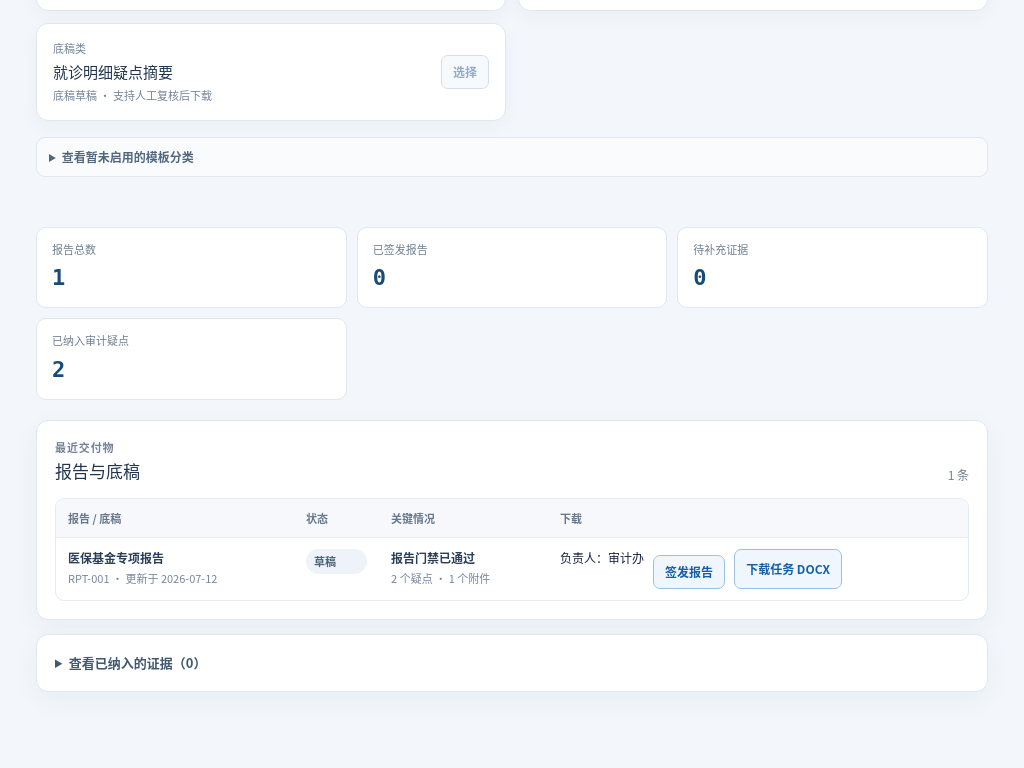
Test: ReplicaReportWorkbench › submits signoff only when all server gates allow it
(page scrolled)
Click the button "签发报告".
click(689, 572)  # box [653, 555, 725, 589]
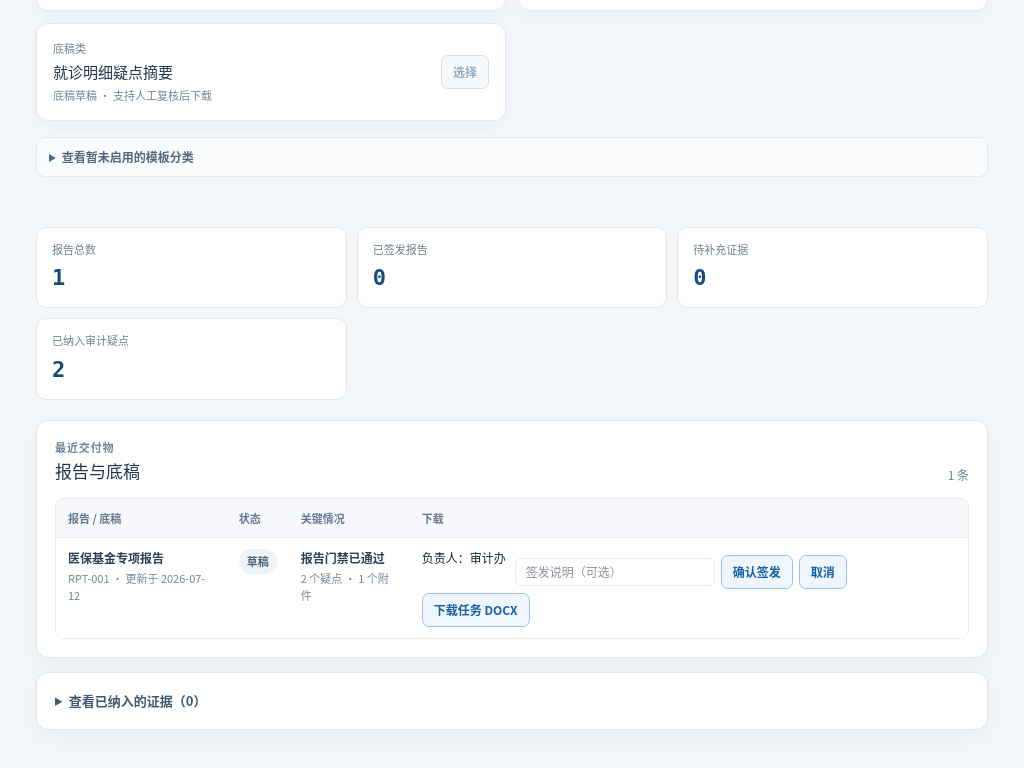
Type "证据与负责人确认已复核" into the field with placeholder "签发说明（可选）".
click(615, 572); type("证据与负责人确认已复核")  # box [515, 558, 715, 586]
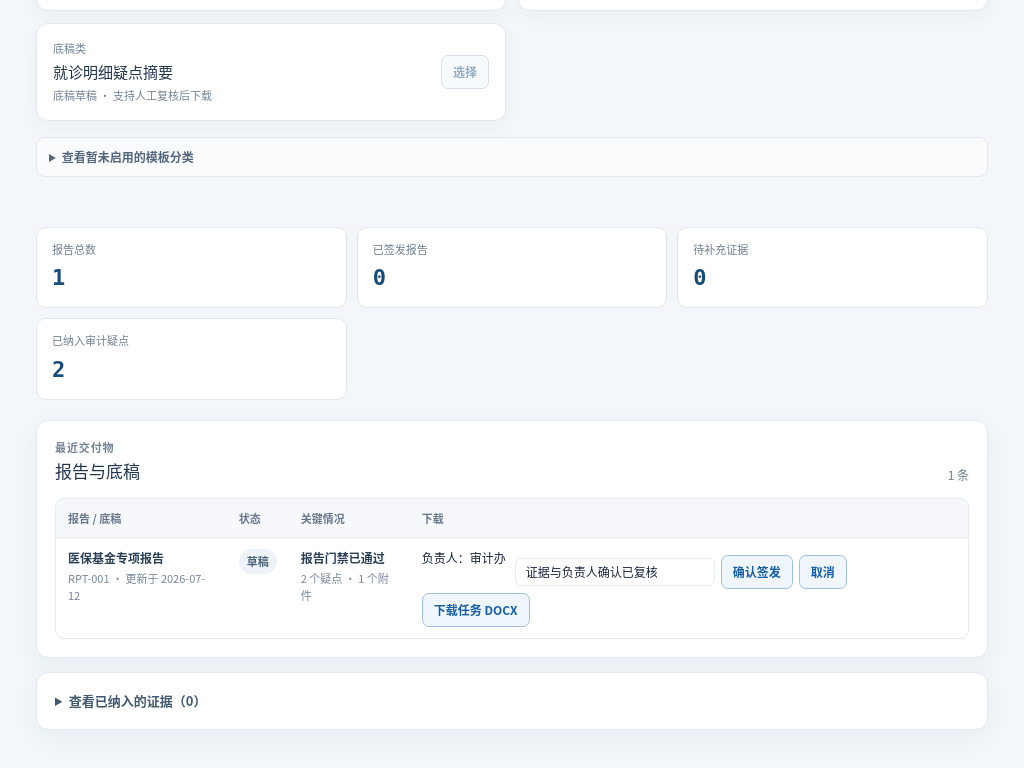
Click the button "确认签发".
click(757, 572)  # box [721, 555, 793, 589]
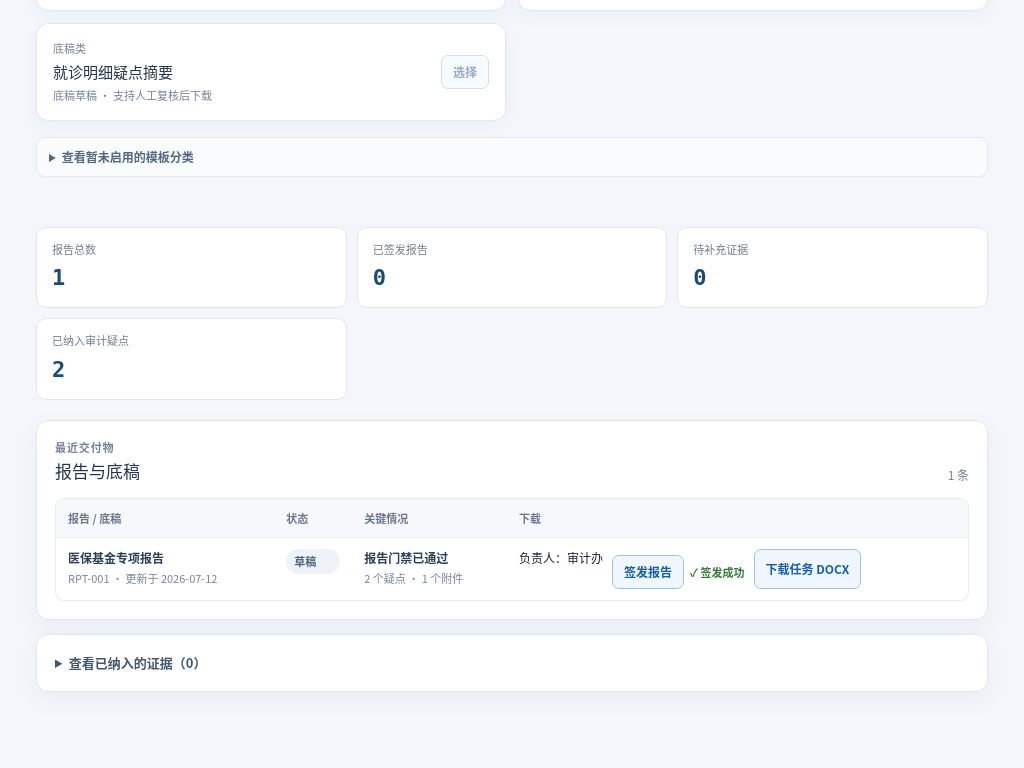
Expected: the text "✓ 签发成功" is shown, [690, 564, 745, 581]
